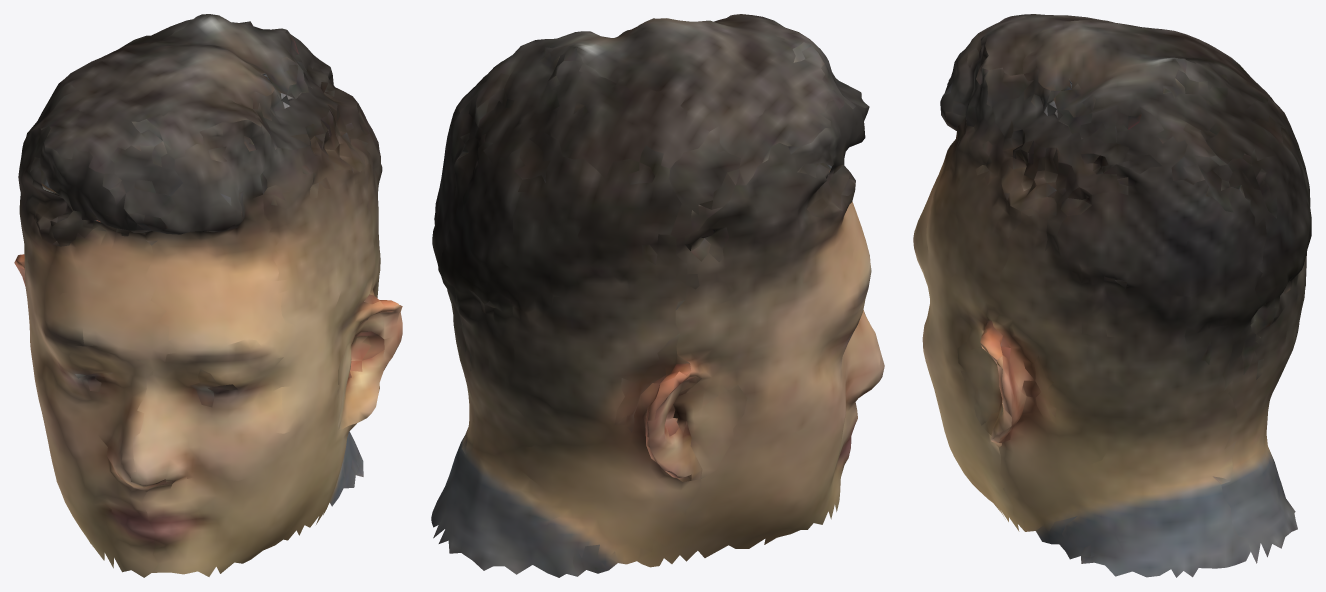
The model's file is nagase_cabeza.glb.
The picture shows the model from 3 angles, left to right: view 1: azimuth 30°, elevation 25°; view 2: azimuth 150°, elevation 25°; view 3: azimuth 270°, elevation 25°; orthographic projection. The views are drawn at different scales.
Visible parts, largest first — view 1: cabeza; view 2: cabeza; view 3: cabeza.
Part boxes in pixels (left/top/right/bottom): cabeza: left=14, top=14, right=402, bottom=577; cabeza: left=431, top=14, right=884, bottom=577; cabeza: left=913, top=14, right=1311, bottom=577.
Bounding box in the file's own units: 2.9 × 3.67 × 2.87.
Materials: 1 (1 with a texture image).
